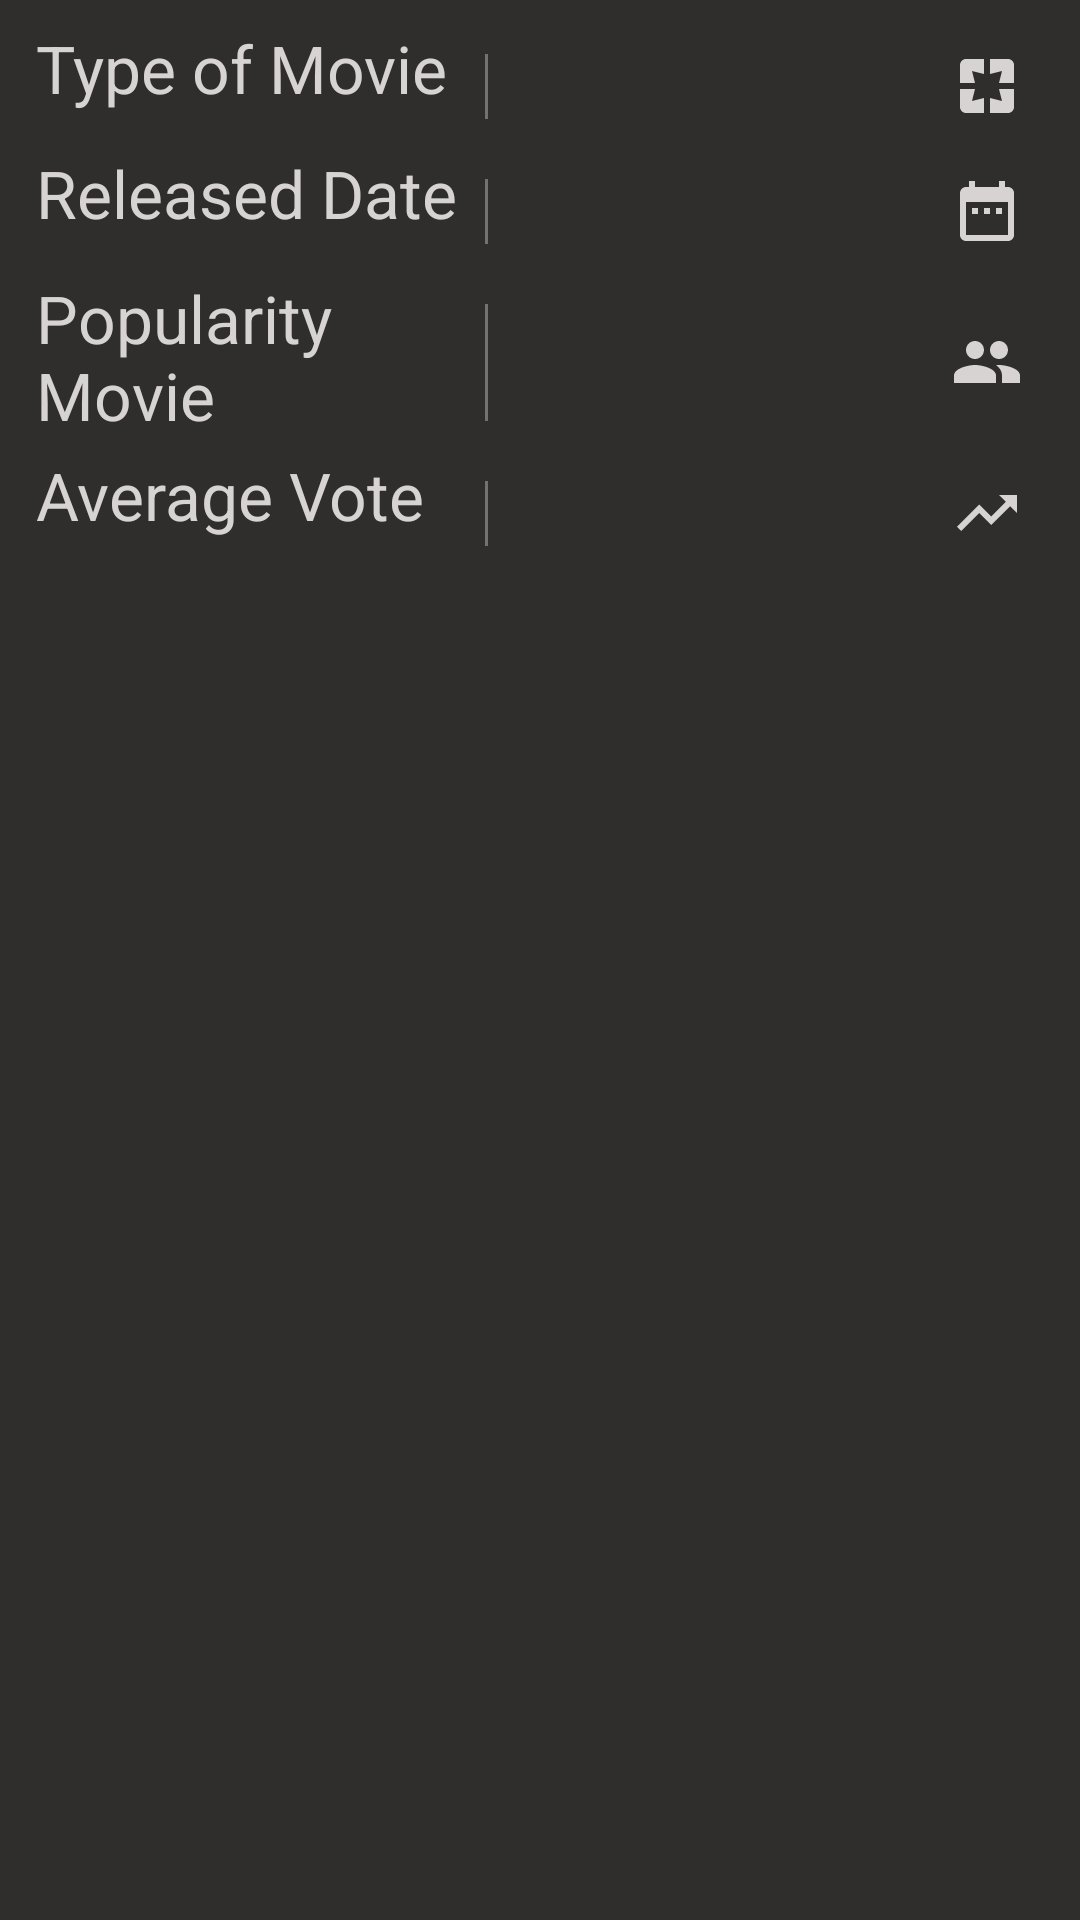

Where to tap for icons on this 1080w x 1920h app screen, as point (x, y):
date range: point (987, 211)
pages: point (987, 86)
people: point (987, 362)
trending up: point (987, 513)
